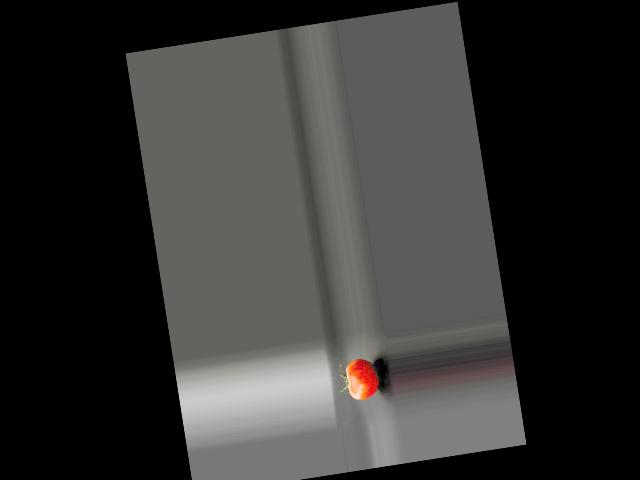tomato: (344, 357, 381, 402)
